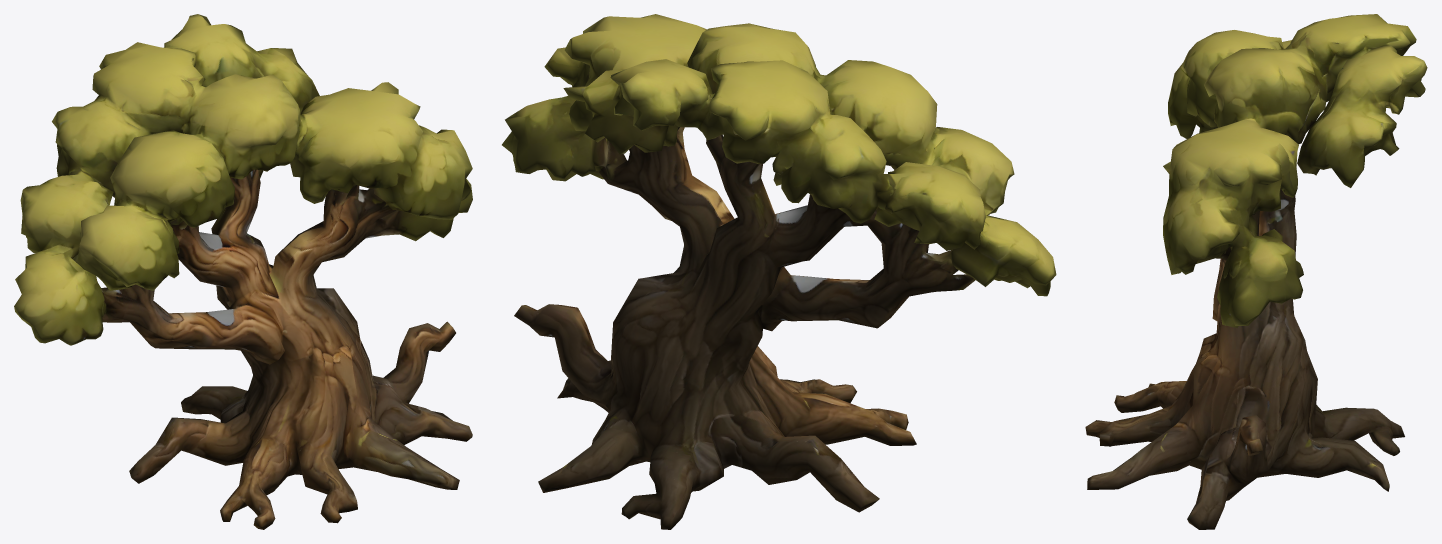
The model's file is arbol_tarapaca.fbx.
The picture shows the model from 3 angles, left to right: view 1: azimuth 30°, elevation 25°; view 2: azimuth 150°, elevation 25°; view 3: azimuth 270°, elevation 25°; orthographic projection. The views are drawn at different scales.
Parts seen in each view (by area): view 1: tripo_node_7a0078fb; view 2: tripo_node_7a0078fb; view 3: tripo_node_7a0078fb.
Part boxes in pixels (x1,y1,x2,y2): tripo_node_7a0078fb: [14, 14, 472, 529]; tripo_node_7a0078fb: [502, 14, 1056, 529]; tripo_node_7a0078fb: [1085, 14, 1427, 529].
Bounding box in the file's own units: 99.36 × 80.17 × 63.37.
Materials: 1 (1 with a texture image).
